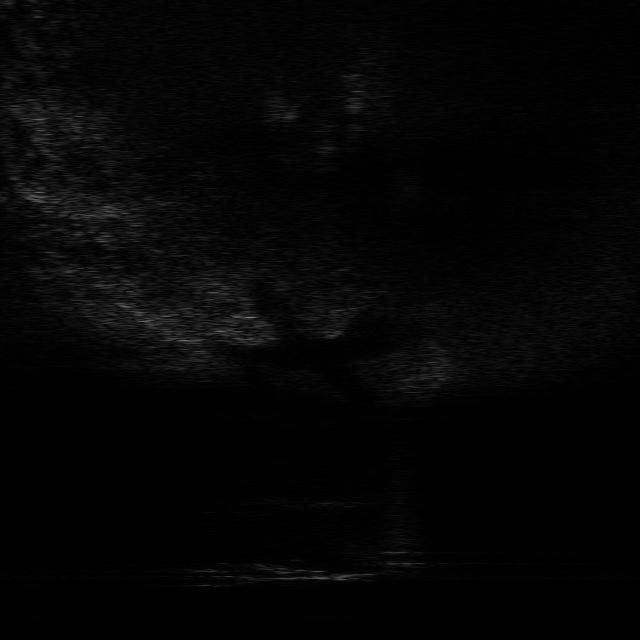plane: (179, 530, 430, 590)
